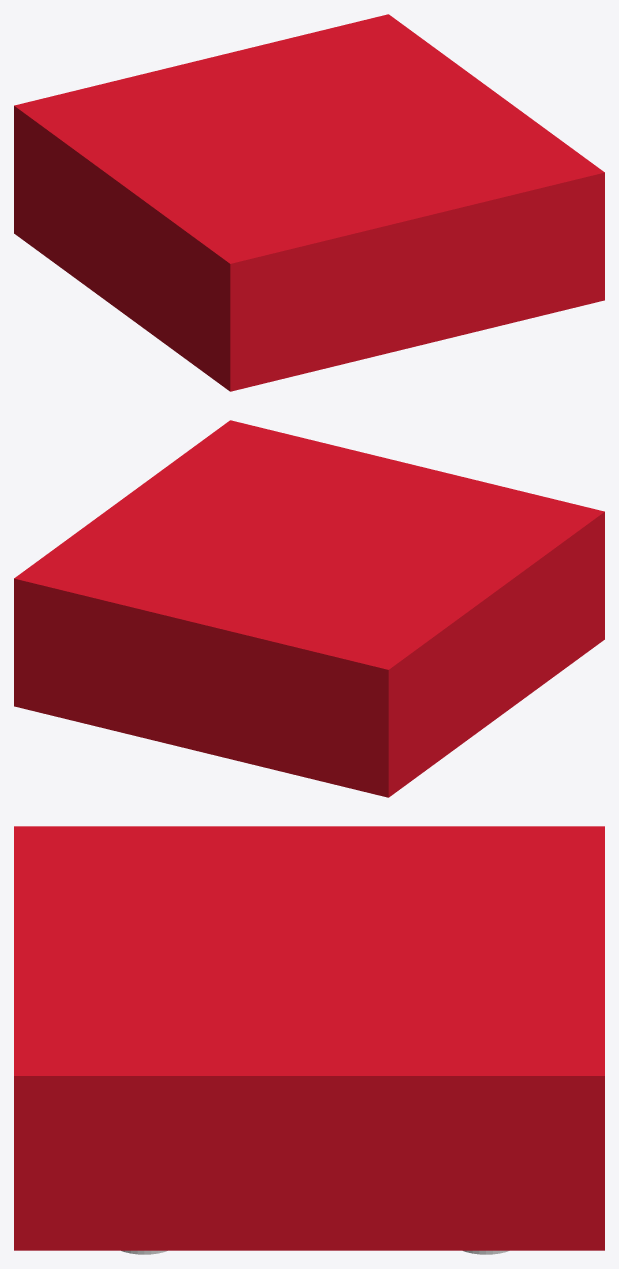
The model's file is table_metal_1.glb.
3 views of the same model, one above another, from view 1: azimuth 30°, elevation 25°; view 2: azimuth 150°, elevation 25°; view 3: azimuth 270°, elevation 25° (orthographic). The views are drawn at different scales.
Parts seen in each view (by area): view 1: red_table; view 2: red_table; view 3: red_table.
Part boxes in pixels (x1,y1,x2,y2): red_table: (14,14,604,391); red_table: (14,420,604,797); red_table: (14,826,604,1250).
Size of the model in its own units: 6.45 by 2.51 by 6.45.
